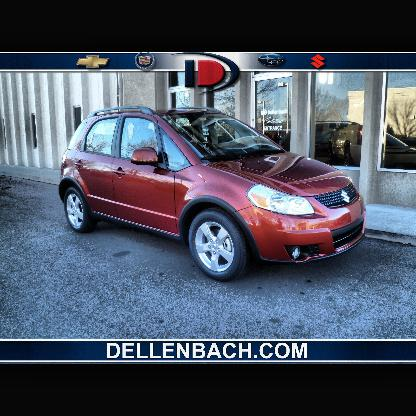Suzuki SX4 Hatchback 2012: (61, 106, 368, 284)
